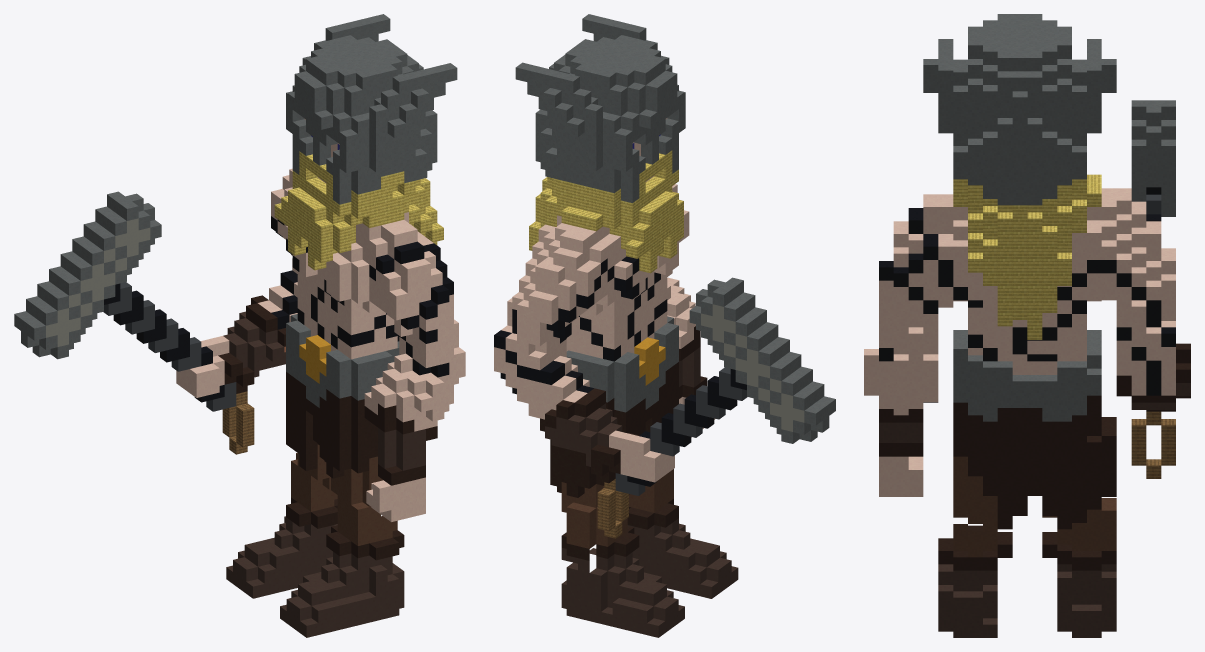
Rendered from ThorO.glb.
The picture shows the model from 3 angles, left to right: view 1: azimuth 30°, elevation 25°; view 2: azimuth 150°, elevation 25°; view 3: azimuth 270°, elevation 25°; orthographic projection. The views are drawn at different scales.
Visible parts, largest first — view 1: node_1.002; view 2: node_1.002; view 3: node_1.002.
Part boxes in pixels (box(x1,y1,x2,y2)): node_1.002: box(14, 14, 465, 637); node_1.002: box(494, 14, 835, 637); node_1.002: box(864, 14, 1190, 637).
Bounding box in the file's own units: 29 × 44 × 22.
Materials: 3 (3 with a texture image).
